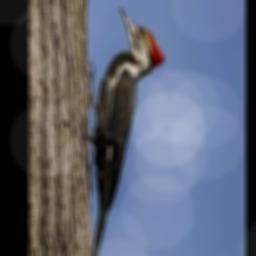Woodpecker: (87, 6, 165, 256)
